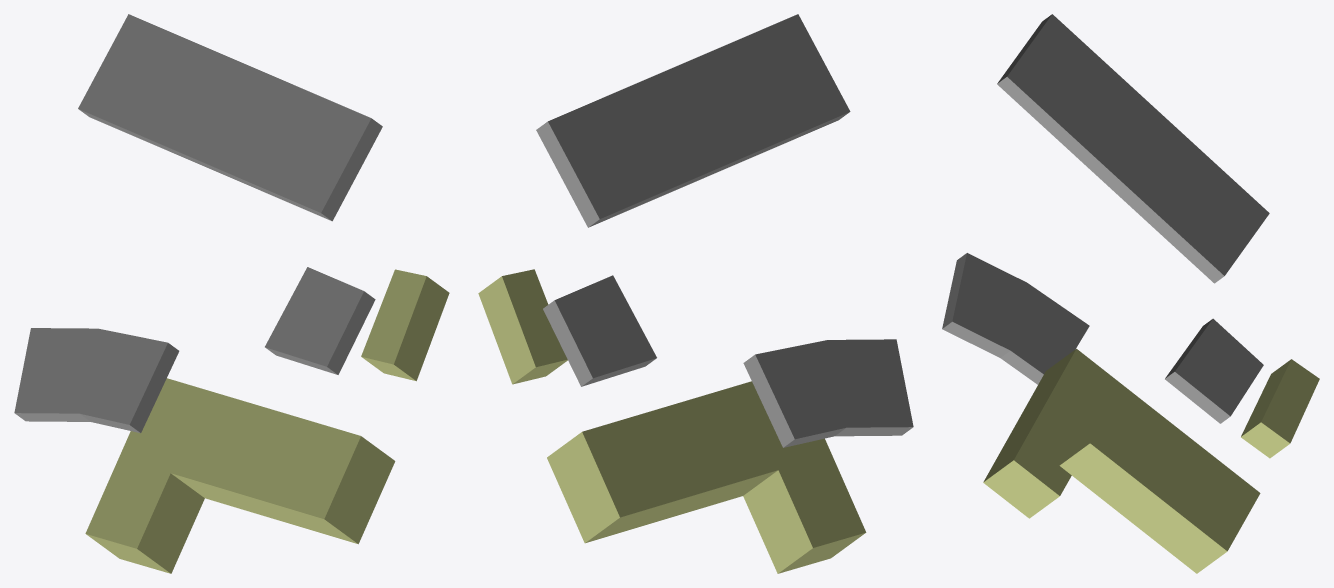
3 renders of one model, left to right at view 1: azimuth 30°, elevation 25°; view 2: azimuth 150°, elevation 25°; view 3: azimuth 330°, elevation 25°, orthographic. The views are drawn at different scales.
Visible parts, largest first — view 1: 0_1_0_0_0_1_1_0; view 2: 0_1_0_0_0_1_1_0; view 3: 0_1_0_0_0_1_1_0.
Boxes of the visible parts, <box> form: 0_1_0_0_0_1_1_0: <box>14,14,449,573</box>; 0_1_0_0_0_1_1_0: <box>478,14,913,573</box>; 0_1_0_0_0_1_1_0: <box>942,14,1319,573</box>.
Bounding box in the file's own units: 62.38 × 80.07 × 9.3.
